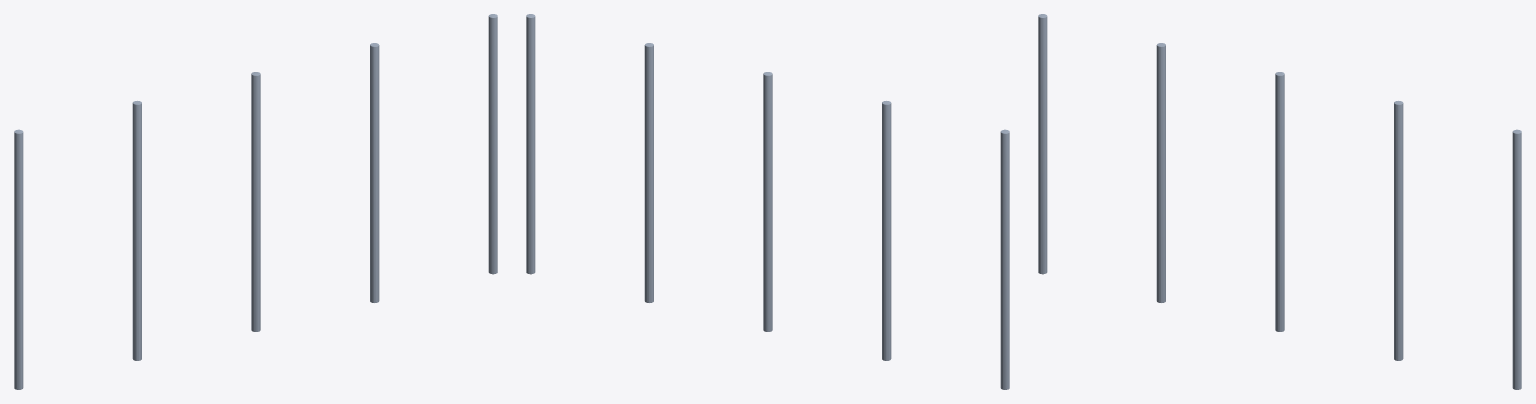
Rendered from west.glb.
The picture shows the model from 3 angles, left to right: view 1: azimuth 30°, elevation 25°; view 2: azimuth 150°, elevation 25°; view 3: azimuth 330°, elevation 25°; orthographic projection.
Visible parts, largest first — view 1: orbital-observation-deck west; view 2: orbital-observation-deck west; view 3: orbital-observation-deck west.
Part boxes in pixels (<box>): orbital-observation-deck west: <box>14,14,497,389</box>; orbital-observation-deck west: <box>526,14,1009,389</box>; orbital-observation-deck west: <box>1038,14,1521,389</box>.
Size of the model in its own units: 6.1 by 3.1 by 0.1.
